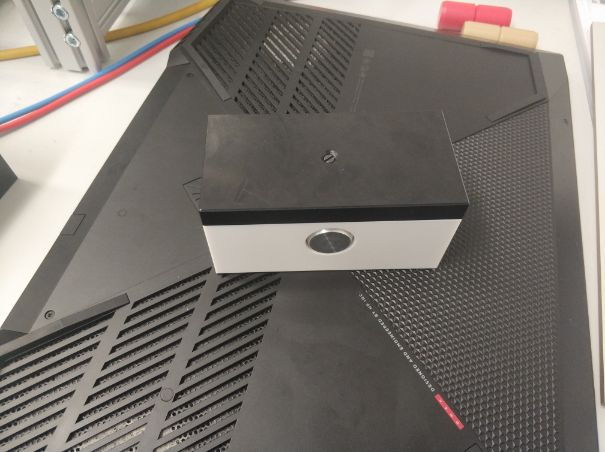black+white+silver: (191, 105, 475, 279)
